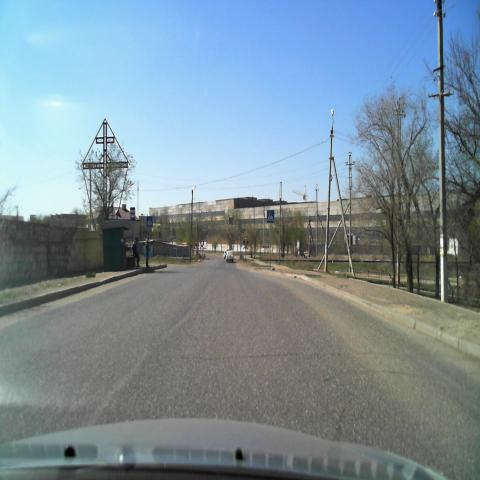5_16: (130, 206, 134, 220)
5_19_1: (267, 209, 274, 223), (147, 216, 153, 228)
